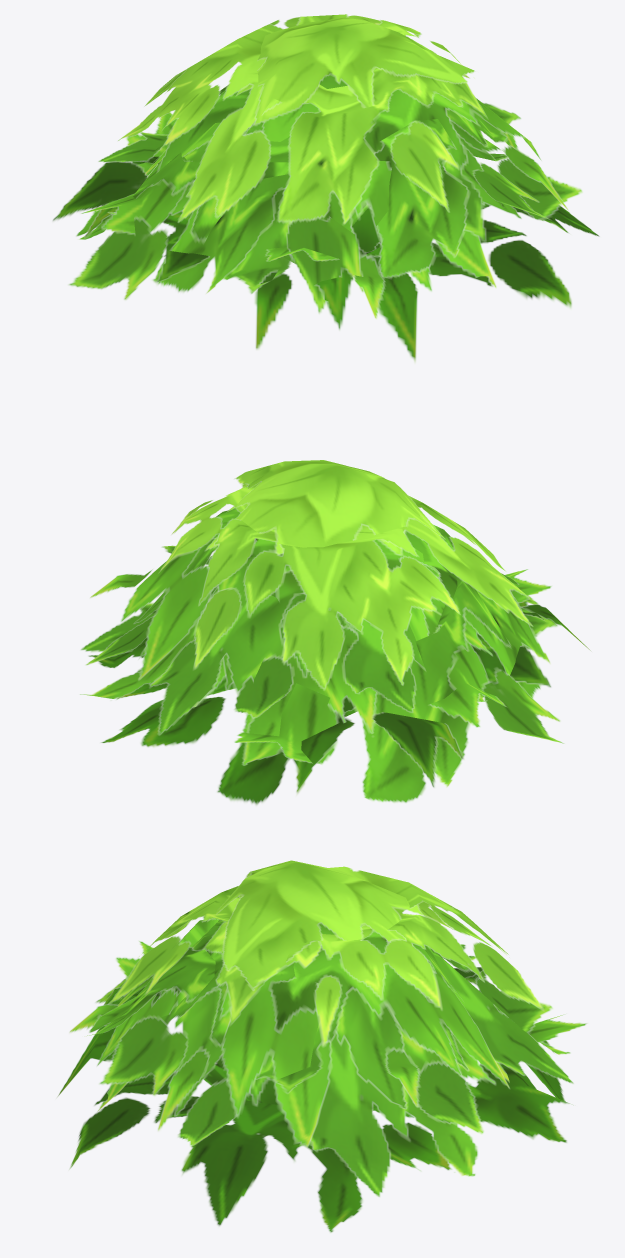
File: Misc_HoloPlant_01.glb
The picture shows the model from 3 angles, top to bottom: view 1: azimuth 30°, elevation 25°; view 2: azimuth 150°, elevation 25°; view 3: azimuth 270°, elevation 25°; orthographic projection. The views are drawn at different scales.
Visible parts, largest first — view 1: Misc_HoloPlant_01.001; view 2: Misc_HoloPlant_01.001; view 3: Misc_HoloPlant_01.001.
Part boxes in pixels (x1,y1,x2,y2): Misc_HoloPlant_01.001: (52, 14, 599, 364); Misc_HoloPlant_01.001: (79, 460, 591, 806); Misc_HoloPlant_01.001: (56, 860, 587, 1233).
Size of the model in its own units: 0.4859 by 0.2681 by 0.4662.
1 material, 1 textured.
